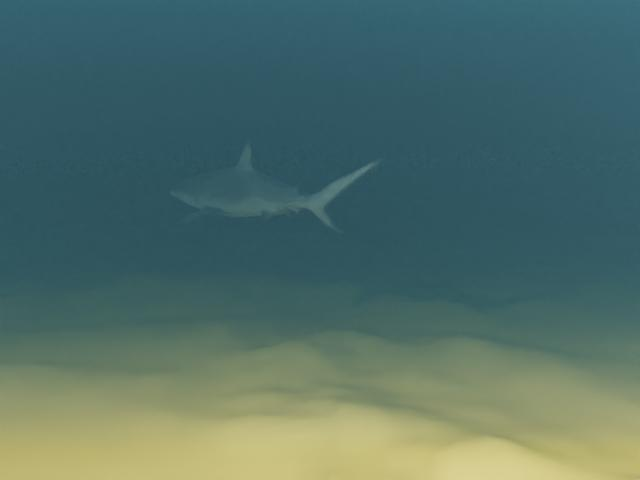Carribean Shark.001: (169, 139, 386, 234)
